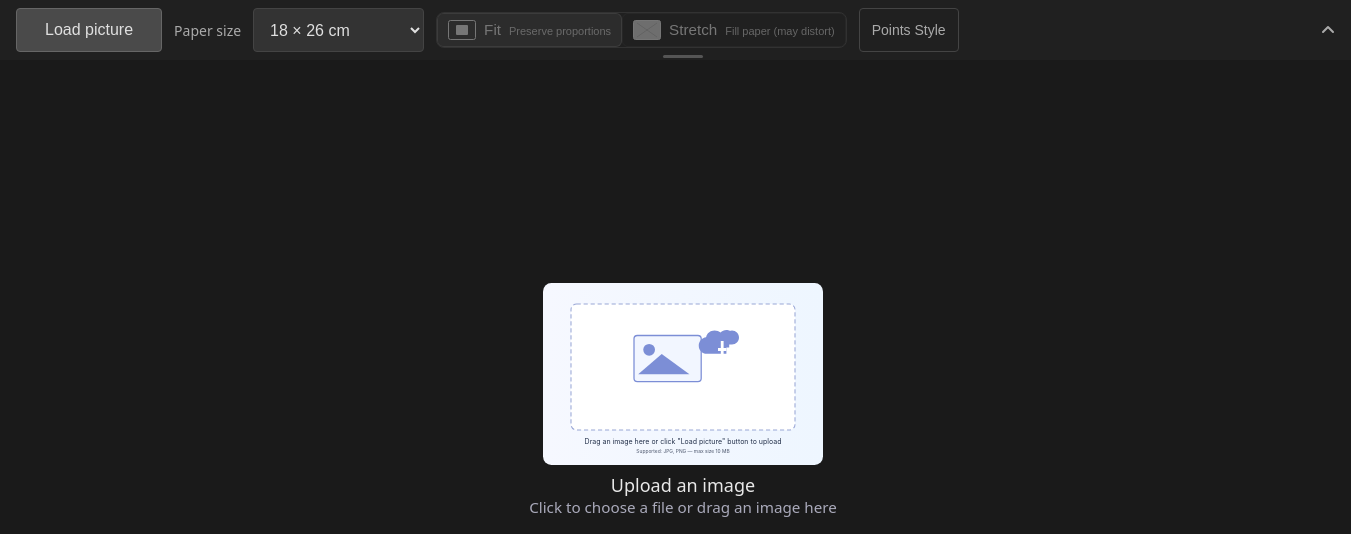
Test: custom size inputs are hidden after switching back to a preset
Select "Custom…" in the dropdown labelled "Paper size": (339,30) x1=253 y1=8 x2=424 y2=52
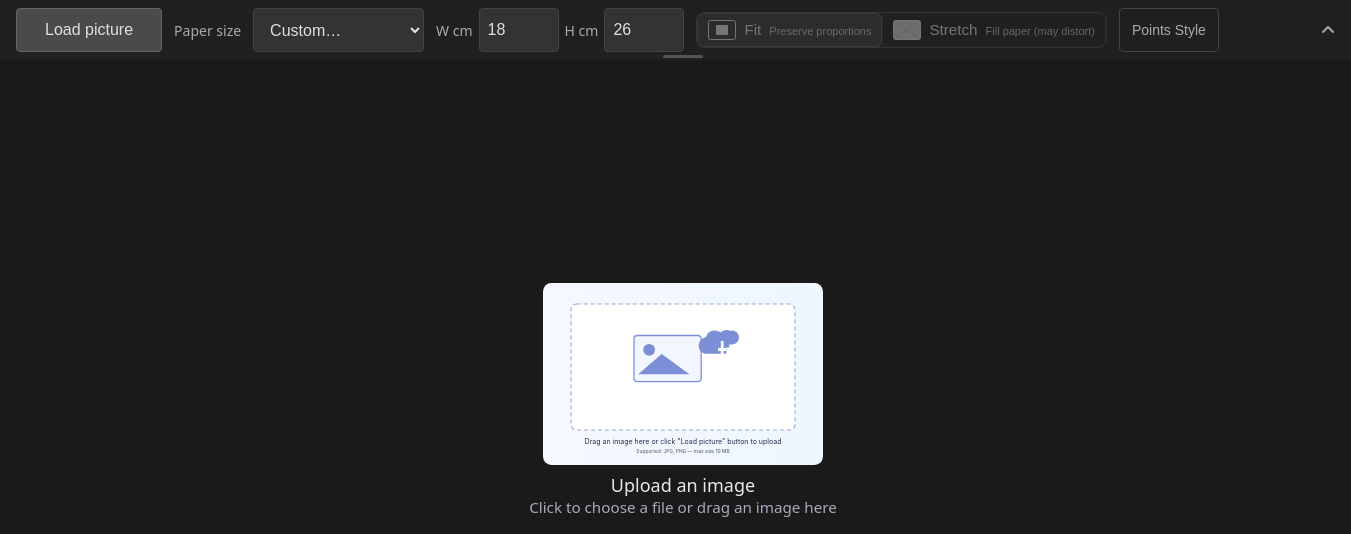
Select "21 × 29.7 cm" in the dropdown labelled "Paper size": (339,30) x1=253 y1=8 x2=424 y2=52
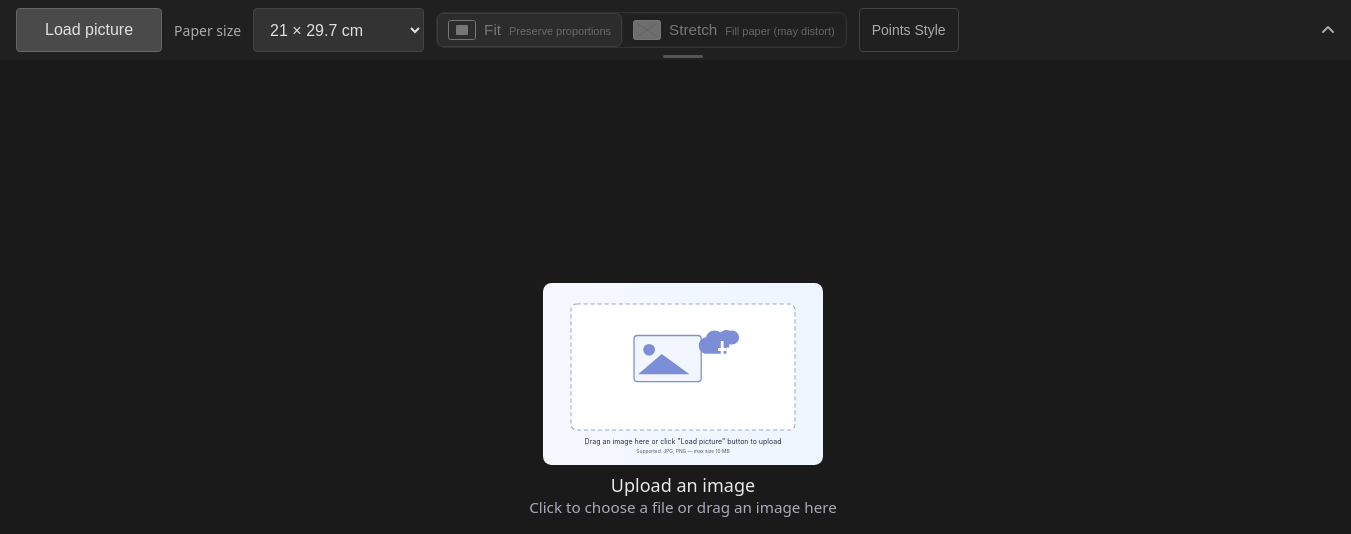
expect the label labelled "W cm" is gone: met
expect the label labelled "H cm" is gone: met
